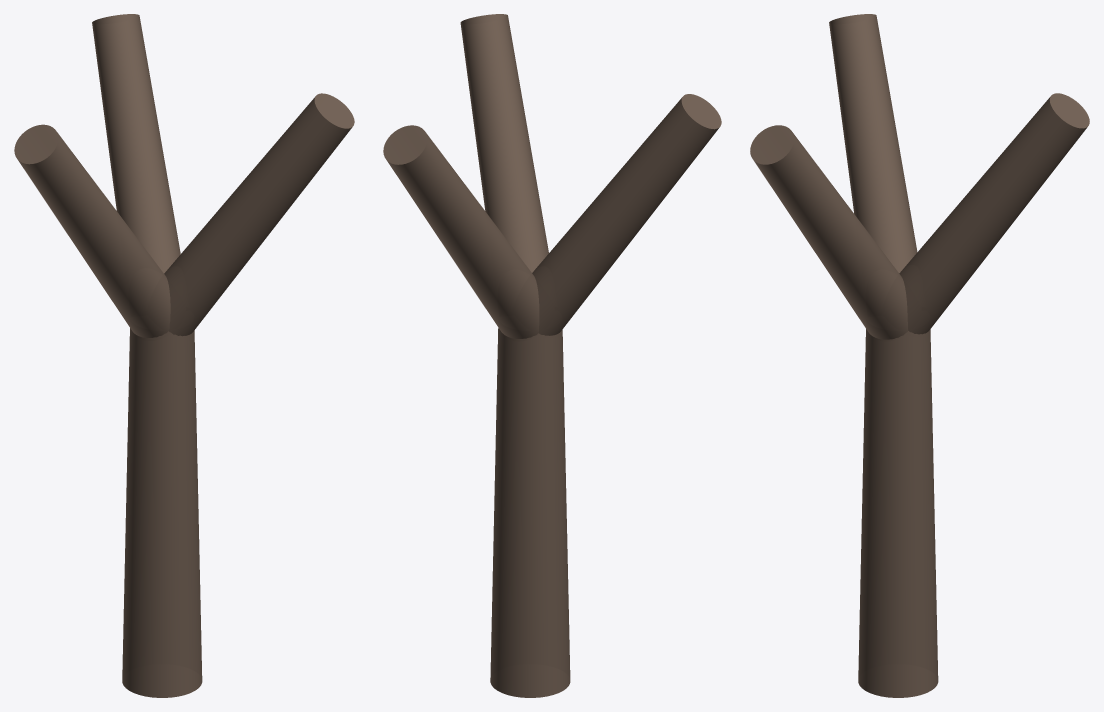
File: fractaltree1.glb
3 renders of one model, left to right at view 1: azimuth 30°, elevation 25°; view 2: azimuth 150°, elevation 25°; view 3: azimuth 270°, elevation 25°, orthographic.
Bounding box in the file's own units: 2.92 × 5.71 × 2.92.
